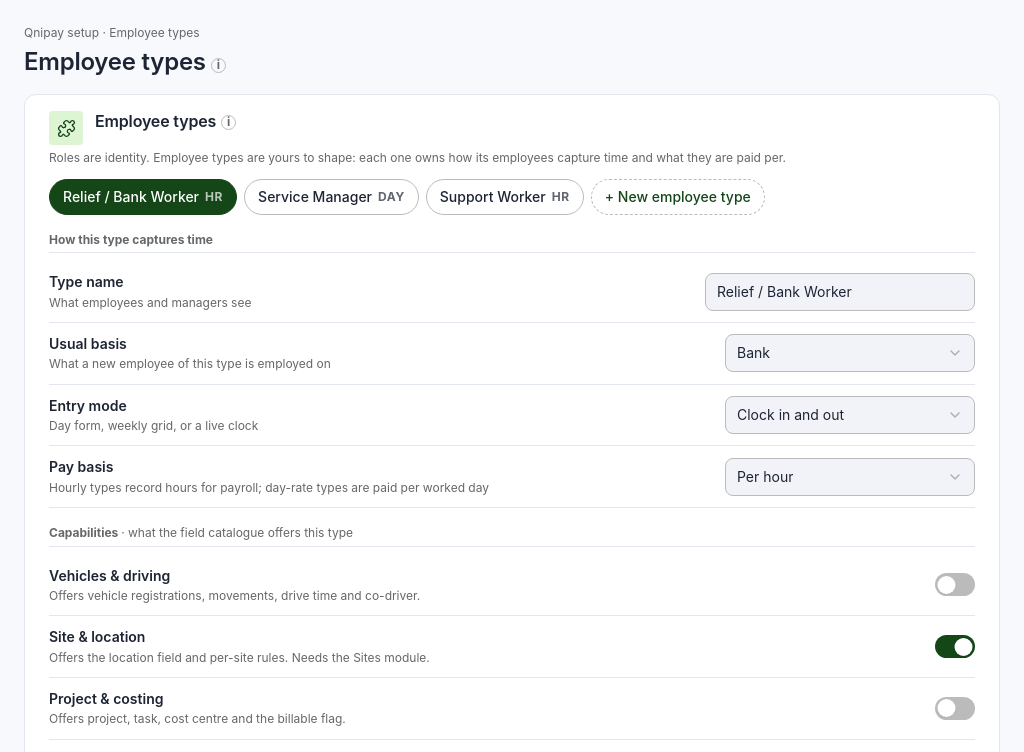
Test: ET A New employee type control exists, and the new-type form has full test id coverage
Click the button with test id "types-add". click: click(678, 197)
box: [591,179,765,215]
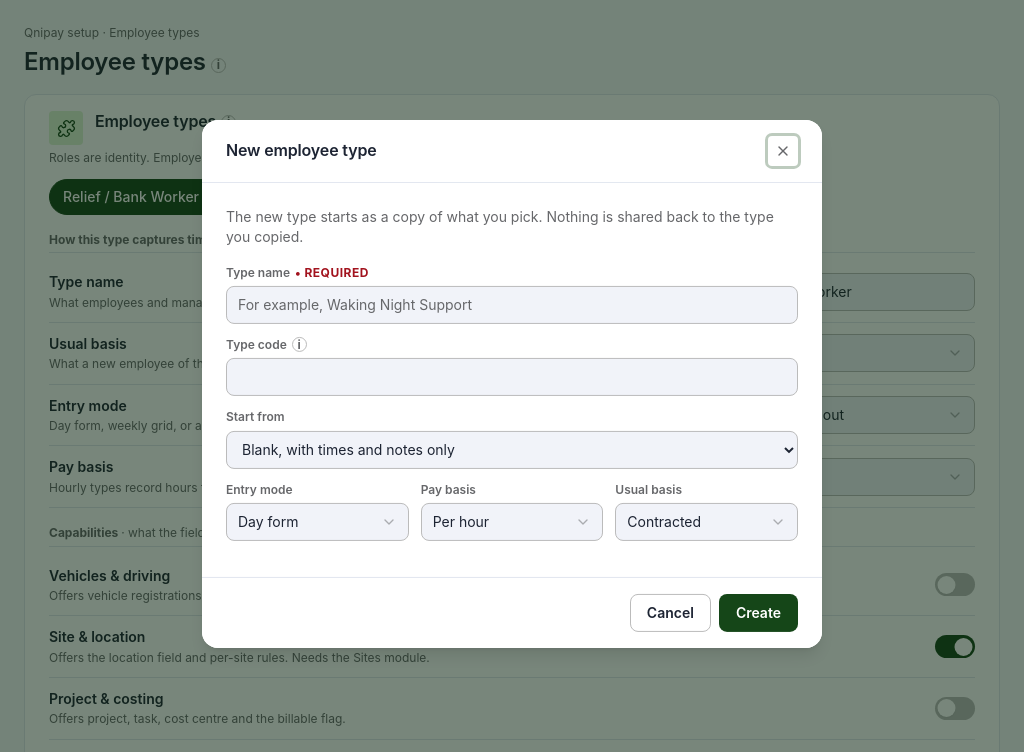
expect the button with test id "types-new-save" is shown: met, box [719,594,798,632]
